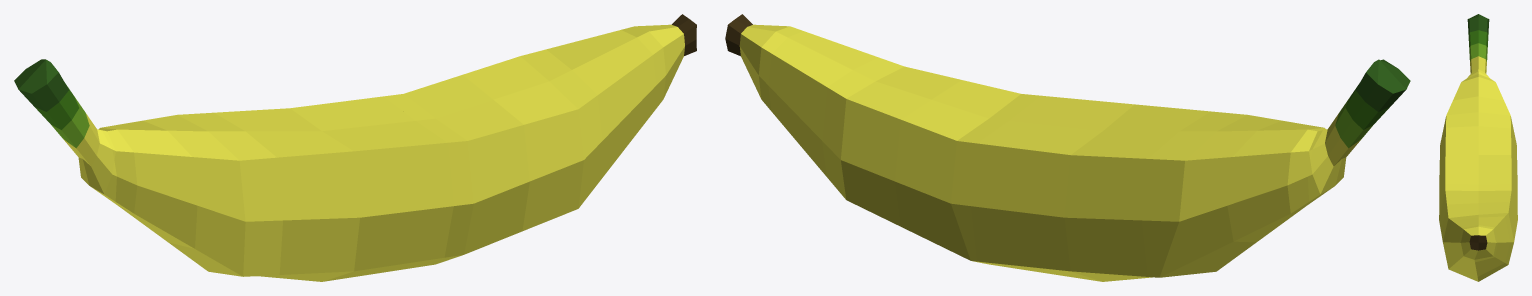
File: banana_s.fbx
3 views of the same model, side by side, from view 1: azimuth 30°, elevation 25°; view 2: azimuth 150°, elevation 25°; view 3: azimuth 270°, elevation 25° (orthographic). The views are drawn at different scales.
Visible parts, largest first — view 1: Cube.008, Cube.002, Cube.006, Cube.003, Cube.007, Cube.004, Cube, Cube.001, Cube.005; view 2: Cube.008, Cube.006, Cube.003, Cube.002, Cube.007, Cube.004, Cube, Cube.001, Cube.005; view 3: Cube.008, Cube.003, Cube.006, Cube.007, Cube, Cube.002, Cube.005, Cube.001, Cube.004.
Boxes of the visible parts, box(x1,y1,x2,y2) form: Cube.008: box(290, 96, 453, 281); Cube.002: box(384, 75, 529, 267); Cube.006: box(143, 112, 282, 276); Cube.003: box(214, 108, 359, 281); Cube.007: box(463, 49, 602, 230); Cube.004: box(98, 120, 197, 248); Cube: box(546, 30, 656, 183); Cube.001: box(14, 59, 116, 201); Cube.005: box(621, 14, 696, 111); Cube.008: box(971, 95, 1134, 281); Cube.006: box(1141, 111, 1281, 277); Cube.003: box(1064, 104, 1210, 281); Cube.002: box(895, 80, 1040, 266); Cube.007: box(822, 57, 961, 226); Cube.004: box(1227, 120, 1326, 242); Cube: box(768, 31, 877, 176); Cube.001: box(1308, 59, 1410, 201); Cube.005: box(725, 14, 803, 110); Cube.008: box(1439, 153, 1517, 212); Cube.003: box(1439, 126, 1517, 183); Cube.006: box(1440, 96, 1516, 155); Cube.007: box(1441, 202, 1515, 281); Cube: box(1447, 216, 1509, 276); Cube.002: box(1439, 184, 1517, 230); Cube.005: box(1458, 225, 1498, 262); Cube.001: box(1467, 14, 1489, 76); Cube.004: box(1453, 71, 1503, 100).
Size of the model in its own units: 515 by 220 by 101.
